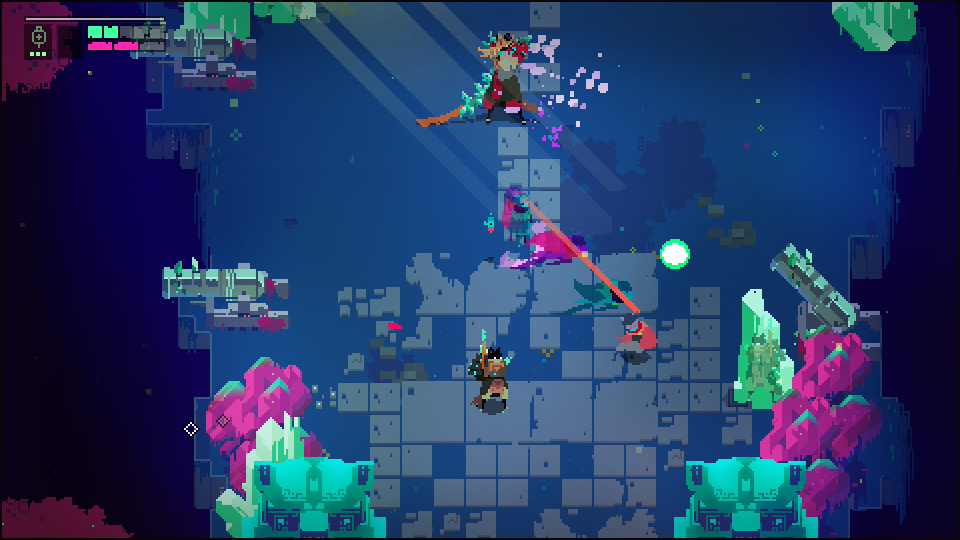hanged_man: (462, 31, 531, 122)
hanged_shot: (660, 239, 689, 271)
player: (616, 316, 658, 361)
